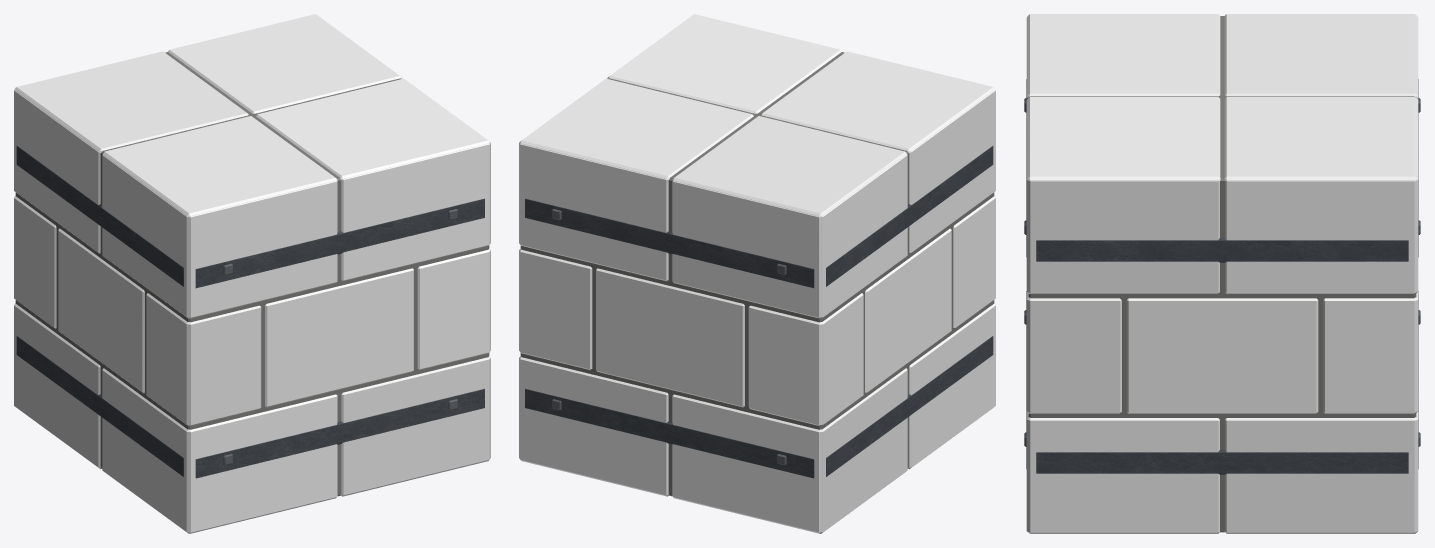
File: castle_iron_wall.gltf
3 views of the same model, side by side, from view 1: azimuth 30°, elevation 25°; view 2: azimuth 150°, elevation 25°; view 3: azimuth 270°, elevation 25° (orthographic). The views are drawn at different scales.
Size of the model in its own units: 0.99 by 0.994 by 1.
Materials: 7 (2 with a texture image).
